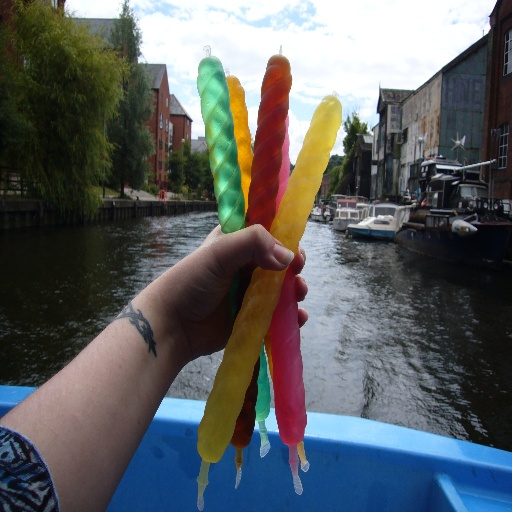hand: (164, 224, 308, 355)
